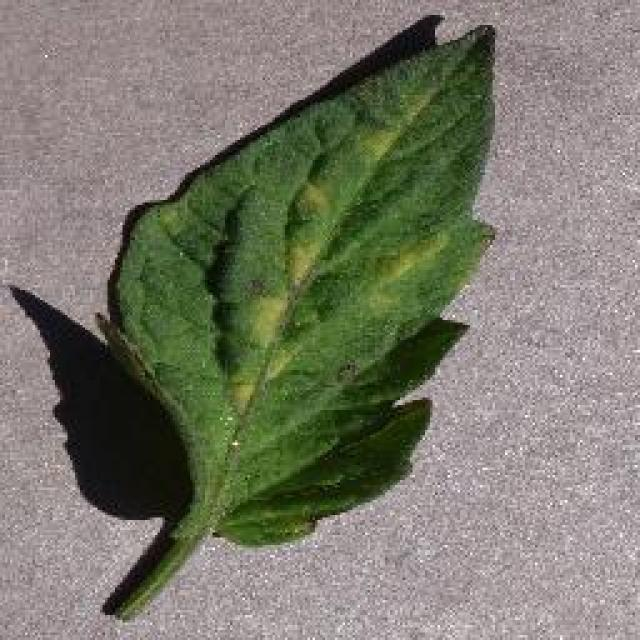Tomato mold leaf: (101, 21, 501, 546)
